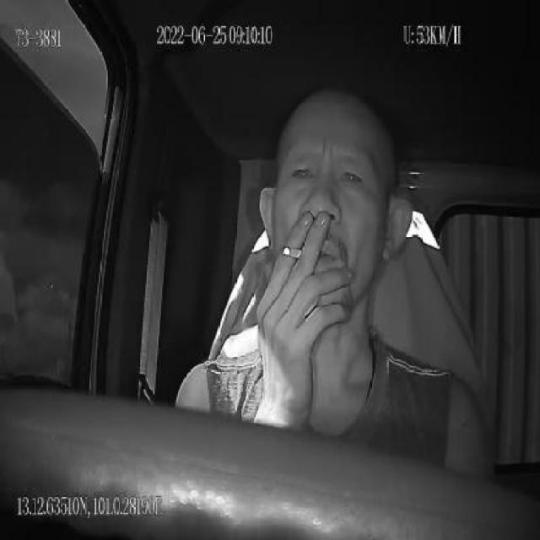smoking: (284, 243, 302, 258)
